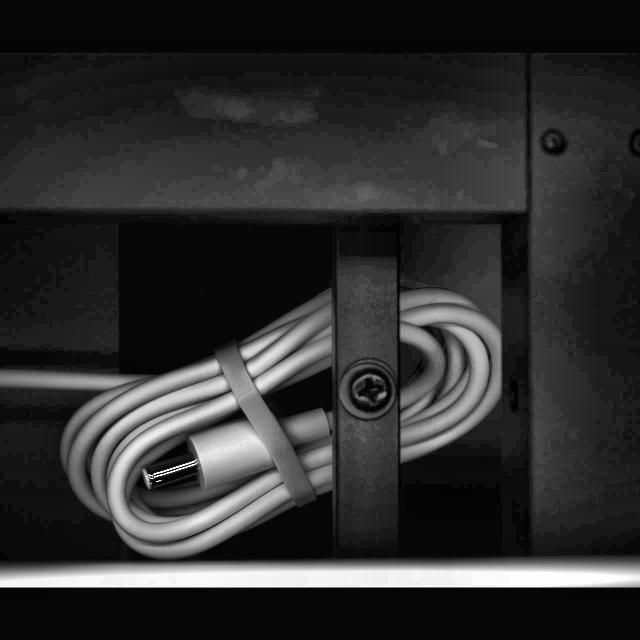Cable: (0, 272, 511, 562)
